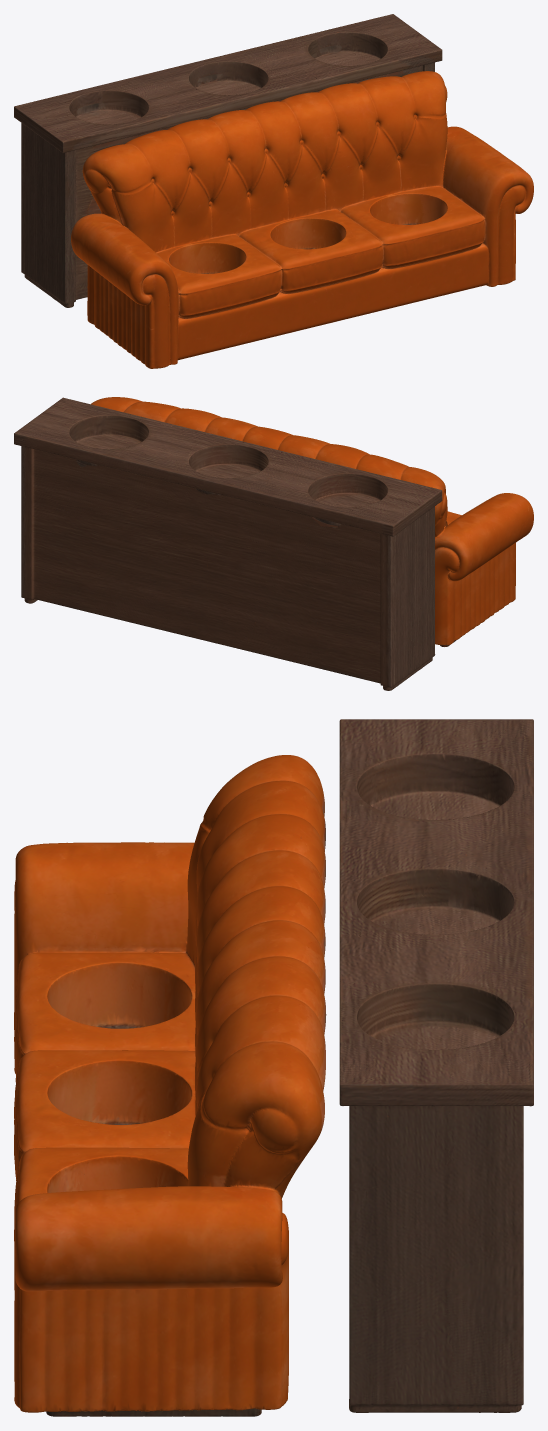
The model's file is sofa1.glb.
3 views of the same model, one above another, from view 1: azimuth 30°, elevation 25°; view 2: azimuth 150°, elevation 25°; view 3: azimuth 270°, elevation 25° (orthographic). The views are drawn at different scales.
Size of the model in its own units: 1.9 by 0.8014 by 1.07.
Materials: 1 (1 with a texture image).
